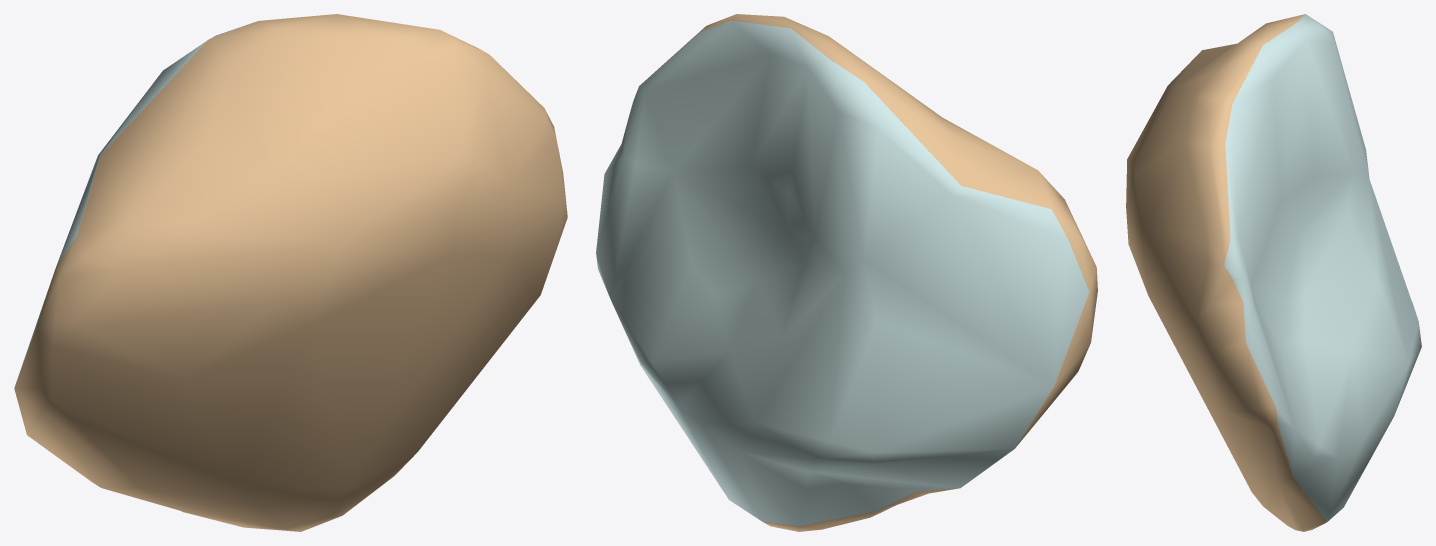
The model's file is Patella.l_Generated_Mesh_From_X3D.277.glb.
3 views of the same model, side by side, from view 1: azimuth 30°, elevation 25°; view 2: azimuth 150°, elevation 25°; view 3: azimuth 270°, elevation 25° (orthographic). The views are drawn at different scales.
Visible parts, largest first — view 1: Patella.l_Generated_Mesh_From_X3D.277; view 2: Patella.l_Generated_Mesh_From_X3D.277; view 3: Patella.l_Generated_Mesh_From_X3D.277.
Part boxes in pixels (x1,y1,x2,y2): Patella.l_Generated_Mesh_From_X3D.277: (14,14,567,531); Patella.l_Generated_Mesh_From_X3D.277: (596,14,1097,531); Patella.l_Generated_Mesh_From_X3D.277: (1126,14,1421,531).
Bounding box in the file's own units: 0.0432 × 0.0409 × 0.0228.
